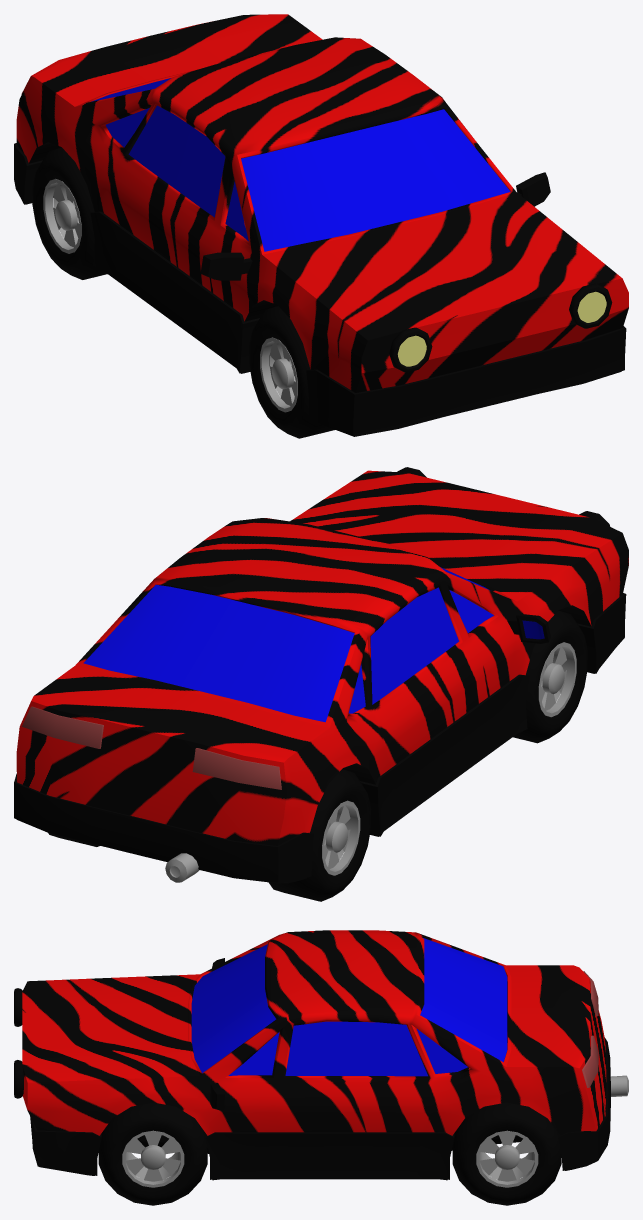
File: Muscle Evolution1 Black ZebraBlackRed Blue LightGrey.glb
3 renders of one model, top to bottom at view 1: azimuth 30°, elevation 25°; view 2: azimuth 150°, elevation 25°; view 3: azimuth 270°, elevation 25°, orthographic. The views are drawn at different scales.
Parts seen in each view (by area): view 1: evo1_body4_f1_dupl, evo1_sill0_f1_dupl, evo1_frontGlass_f1_dupl, evo1_glasseBigR_f1_dupl, evo1_tire_rf_f1_dupl, evo1_tire_rf1_f1_dupl, evo1_rim_A_rb_f1_dupl, evo1_rim_A_rf_f1_dupl, evo1_mirorR3_f1_dupl, evo1_blockLightR_f1_dupl, evo1_blockLightL_f1_dupl, evo1_mirorL3_f1_dupl (+4 smaller); view 2: evo1_body4_f1_dupl, evo1_sill0_f1_dupl, evo1_BackGlassGlass_f1_dupl, evo1_glasseBigR_f1_dupl, evo1_tire_rf_f1_dupl, evo1_tire_rf1_f1_dupl, evo1_rim_A_rf_f1_dupl, evo1_rim_A_rb_f1_dupl, evo1_redlightR2_f1_dupl, evo1_redlightL2_f1_dupl, evo1_glassfR_f1_dupl, evo1_pipe1_f1_dupl (+1 smaller); view 3: evo1_body4_f1_dupl, evo1_sill0_f1_dupl, evo1_BackGlassGlass_f1_dupl, evo1_glasseBigL_f1_dupl, evo1_frontGlass_f1_dupl, evo1_tire_lb_f1_dupl, evo1_tire_lf_f1_dupl, evo1_rim_A_lf_f1_dupl, evo1_rim_A_lb_f1_dupl, evo1_glassfL_f1_dupl, evo1_glassbL_f1_dupl, evo1_GroundBody_f1_dupl (+1 smaller).
Part boxes in pixels (bbox=[...]): evo1_body4_f1_dupl: bbox=[16, 14, 628, 392]; evo1_sill0_f1_dupl: bbox=[14, 143, 626, 436]; evo1_frontGlass_f1_dupl: bbox=[241, 109, 510, 251]; evo1_glasseBigR_f1_dupl: bbox=[128, 105, 225, 217]; evo1_tire_rf_f1_dupl: bbox=[32, 147, 107, 279]; evo1_tire_rf1_f1_dupl: bbox=[249, 306, 334, 438]; evo1_rim_A_rb_f1_dupl: bbox=[43, 179, 81, 253]; evo1_rim_A_rf_f1_dupl: bbox=[260, 337, 297, 412]; evo1_mirorR3_f1_dupl: bbox=[200, 252, 252, 280]; evo1_blockLightR_f1_dupl: bbox=[389, 327, 432, 372]; evo1_blockLightL_f1_dupl: bbox=[569, 283, 612, 328]; evo1_mirorL3_f1_dupl: bbox=[516, 172, 550, 206]; evo1_body4_f1_dupl: bbox=[16, 470, 628, 845]; evo1_sill0_f1_dupl: bbox=[14, 593, 626, 882]; evo1_BackGlassGlass_f1_dupl: bbox=[83, 584, 354, 722]; evo1_glasseBigR_f1_dupl: bbox=[370, 587, 458, 704]; evo1_tire_rf_f1_dupl: bbox=[268, 769, 371, 901]; evo1_tire_rf1_f1_dupl: bbox=[513, 610, 587, 743]; evo1_rim_A_rf_f1_dupl: bbox=[538, 642, 576, 717]; evo1_rim_A_rb_f1_dupl: bbox=[322, 800, 360, 875]; evo1_redlightR2_f1_dupl: bbox=[192, 748, 281, 789]; evo1_redlightL2_f1_dupl: bbox=[22, 706, 103, 748]; evo1_glassfR_f1_dupl: bbox=[449, 590, 493, 632]; evo1_pipe1_f1_dupl: bbox=[165, 853, 199, 882]; evo1_body4_f1_dupl: bbox=[22, 930, 606, 1152]; evo1_sill0_f1_dupl: bbox=[30, 1037, 610, 1179]; evo1_BackGlassGlass_f1_dupl: bbox=[420, 937, 507, 1061]; evo1_glasseBigL_f1_dupl: bbox=[285, 1021, 427, 1076]; evo1_frontGlass_f1_dupl: bbox=[191, 944, 276, 1073]; evo1_tire_lb_f1_dupl: bbox=[452, 1102, 561, 1205]; evo1_tire_lf_f1_dupl: bbox=[98, 1102, 207, 1205]; evo1_rim_A_lf_f1_dupl: bbox=[122, 1130, 184, 1187]; evo1_rim_A_lb_f1_dupl: bbox=[476, 1130, 538, 1187]; evo1_glassfL_f1_dupl: bbox=[228, 1032, 279, 1075]; evo1_glassbL_f1_dupl: bbox=[416, 1028, 467, 1073]; evo1_GroundBody_f1_dupl: bbox=[40, 1140, 594, 1180].
Bounding box in the file's own units: 177 × 112 × 331.
7 materials, 1 textured.
